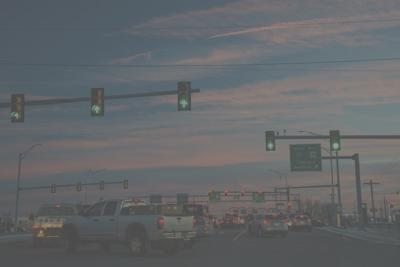International Road Signal Light: (177, 81, 191, 110), (90, 88, 104, 117), (10, 94, 24, 122), (329, 130, 341, 151), (265, 131, 275, 150)
